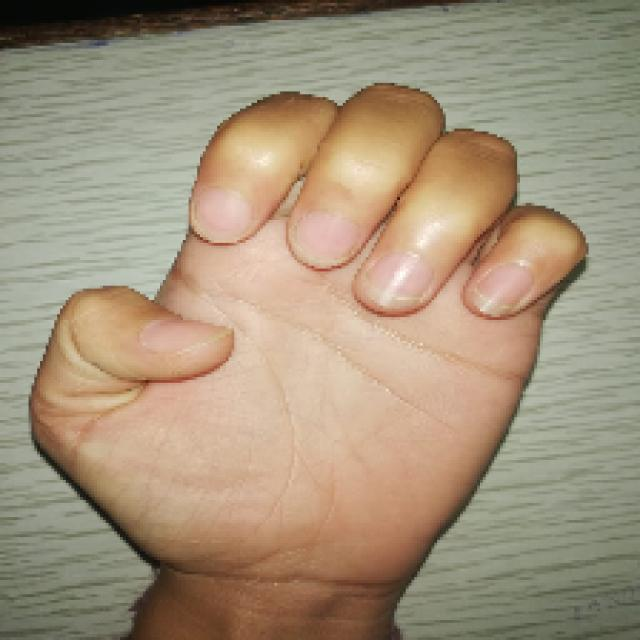Nail: (364, 252, 432, 307), (292, 211, 358, 266), (191, 189, 251, 243), (470, 264, 532, 316), (140, 321, 235, 352)
